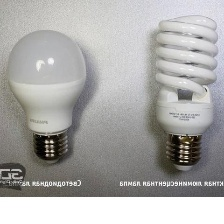light_bulb: (1, 23, 89, 171), (147, 10, 224, 175)
